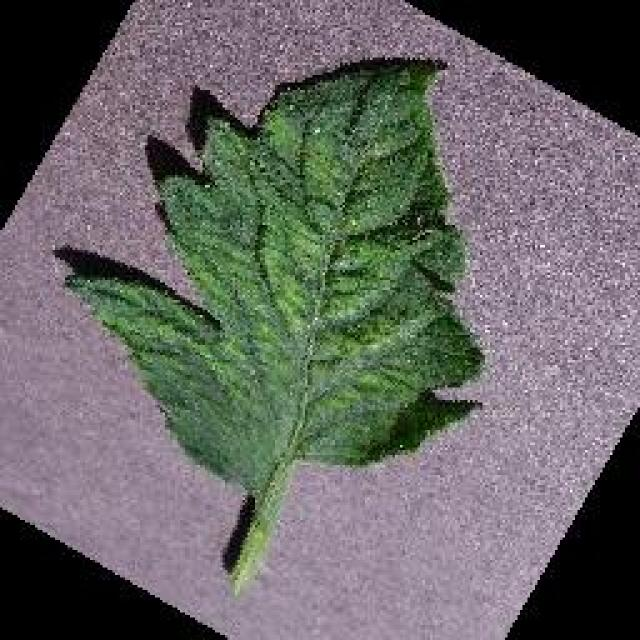Tomato___Tomato_mosaic_virus: (68, 60, 480, 588)
